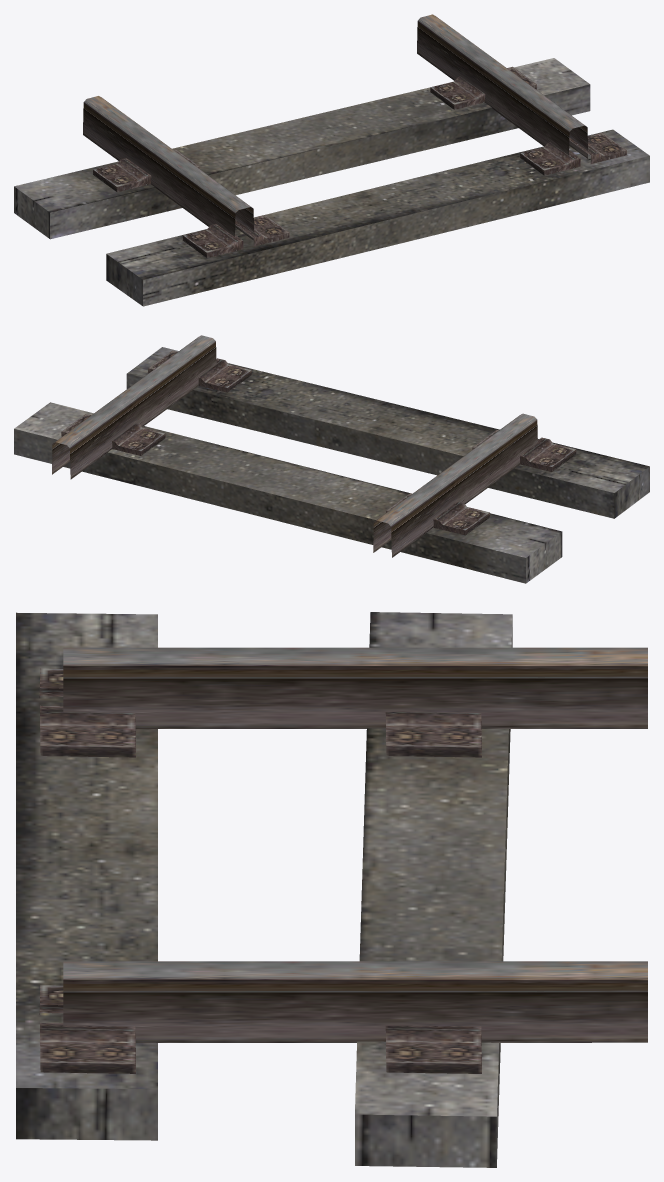
The model's file is rails.obj.
3 renders of one model, top to bottom at view 1: azimuth 30°, elevation 25°; view 2: azimuth 150°, elevation 25°; view 3: azimuth 270°, elevation 25°, orthographic. The views are drawn at different scales.
Visible parts, largest first — view 1: wood_shpala_01, veh_rai, veh_rail_bolt; view 2: wood_shpala_01, veh_rai, veh_rail_bolt; view 3: wood_shpala_01, veh_rai, veh_rail_bolt.
Boxes of the visible parts, <box> form: wood_shpala_01: <box>14,58,649,306</box>; veh_rai: <box>83,14,587,240</box>; veh_rail_bolt: <box>93,66,626,257</box>; wood_shpala_01: <box>14,347,649,583</box>; veh_rai: <box>52,335,537,557</box>; veh_rail_bolt: <box>61,350,576,535</box>; wood_shpala_01: <box>16,612,512,1167</box>; veh_rai: <box>63,647,647,1042</box>; veh_rail_bolt: <box>39,668,481,1073</box>.
Bounding box in the file's own units: 3.72 × 0.4121 × 1.97.
